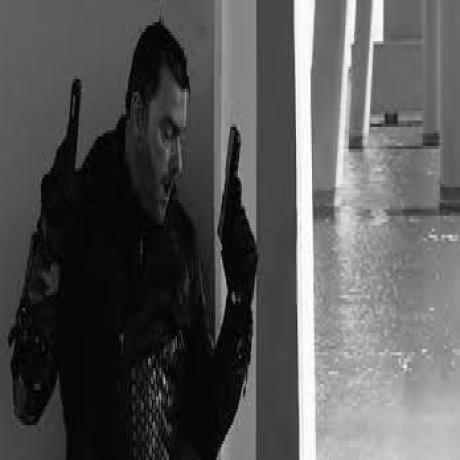Guns: (218, 117, 262, 287), (44, 68, 84, 222)
